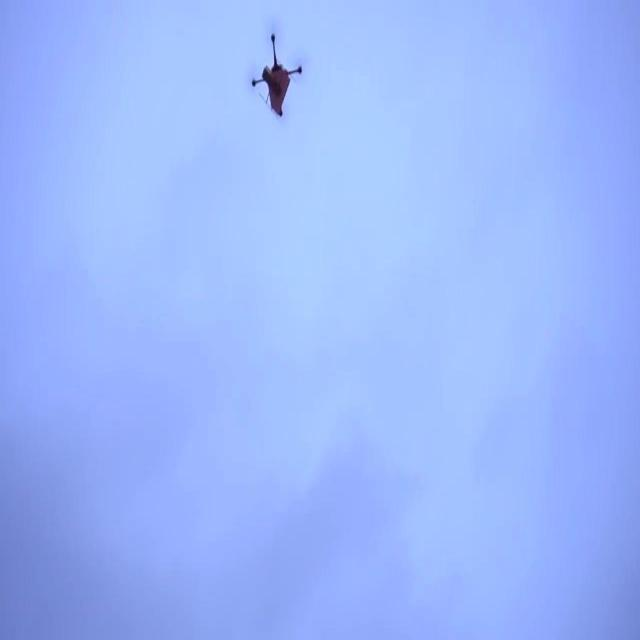drone: (249, 32, 304, 126)
